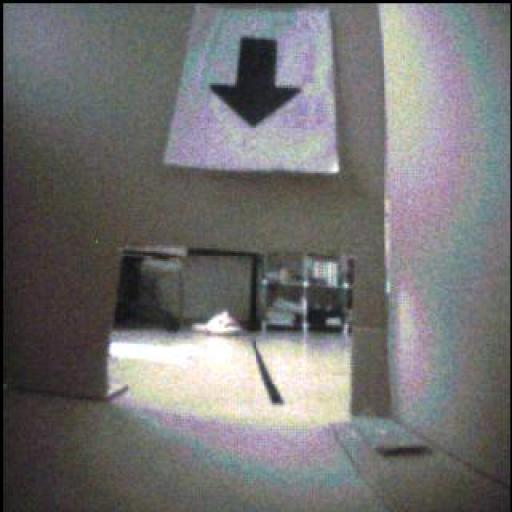arrow: (212, 40, 302, 128)
